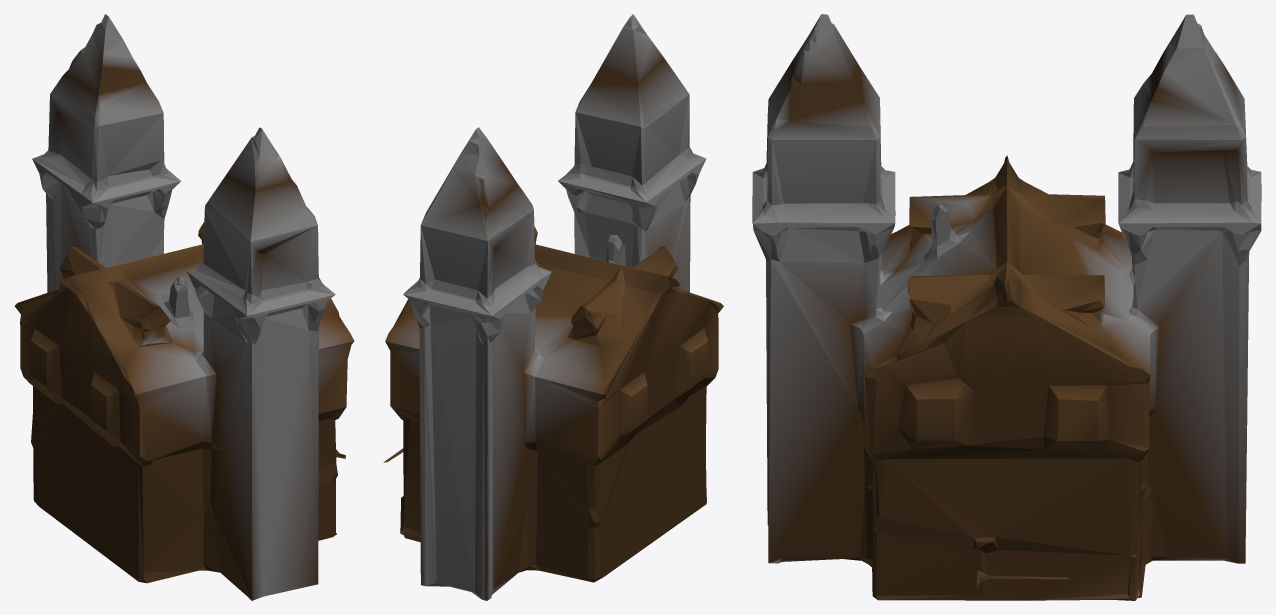
The model's file is Medieval Houses.glb.
3 renders of one model, left to right at view 1: azimuth 30°, elevation 25°; view 2: azimuth 150°, elevation 25°; view 3: azimuth 270°, elevation 25°, orthographic. The views are drawn at different scales.
Visible parts, largest first — view 1: Root; view 2: Root; view 3: Root.
Part boxes in pixels (left/top/right/bottom): Root: left=14, top=14, right=354, bottom=600; Root: left=383, top=14, right=723, bottom=600; Root: left=752, top=14, right=1261, bottom=600.
Size of the model in its own units: 11.32 by 17.63 by 15.3.
